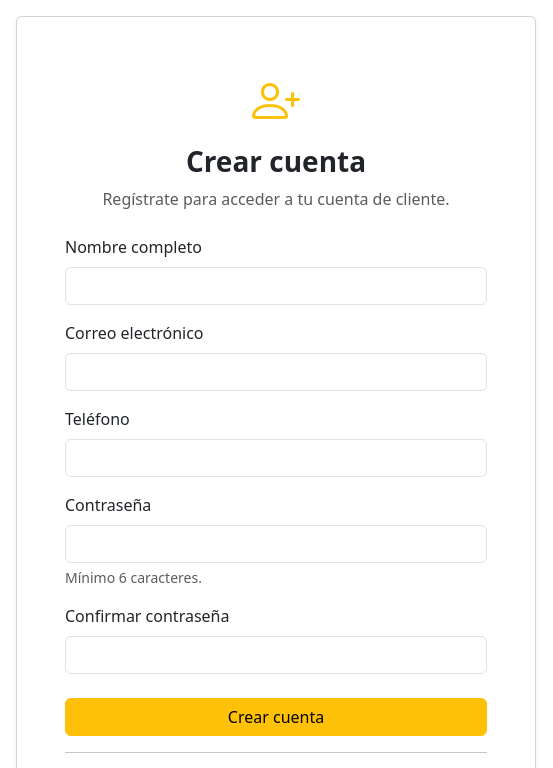
Test: Register › rechaza contraseñas que no coinciden
Type "Cliente de prueba" into the field labelled "Nombre completo". click: (276, 286)
box: x1=65 y1=267 x2=487 y2=305
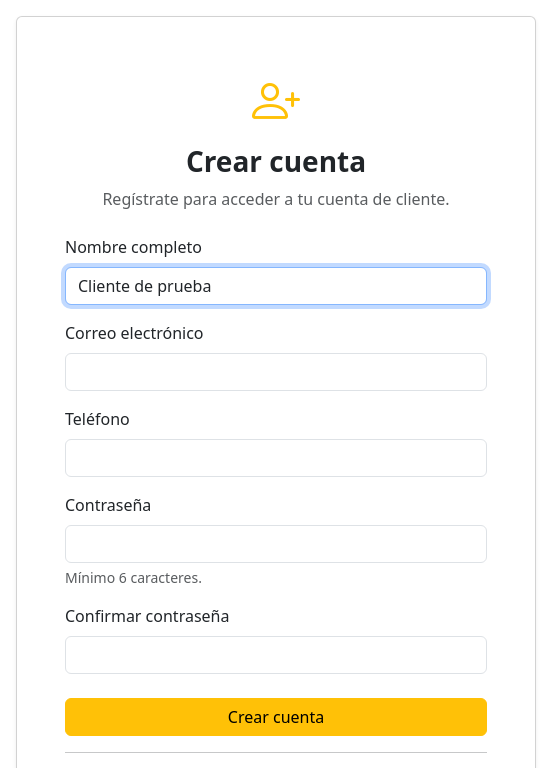
Type "cliente@ejemplo.cl" into the field labelled "Correo electrónico". click: (276, 372)
box: x1=65 y1=353 x2=487 y2=391
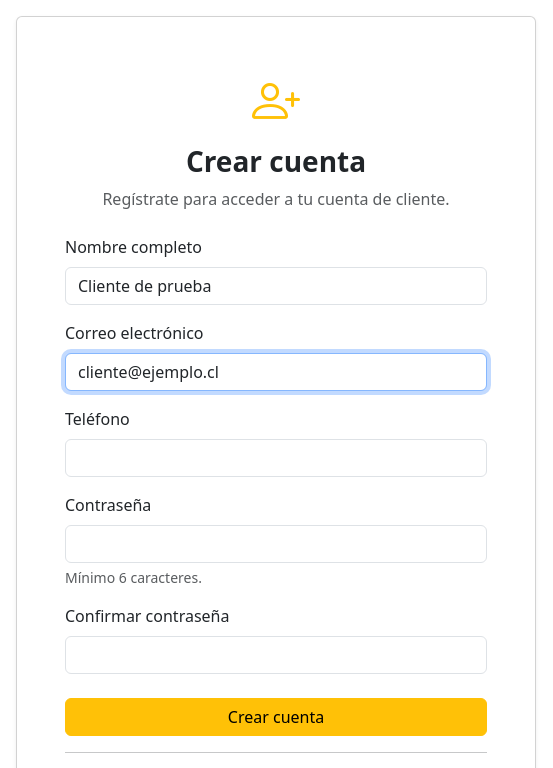
Type "912345678" into the field labelled "Teléfono". click: (276, 458)
box: x1=65 y1=439 x2=487 y2=477
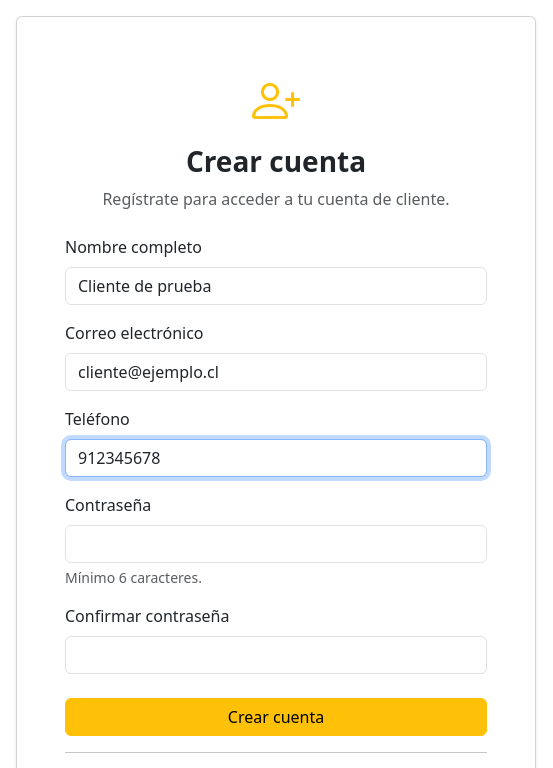
Type "clave123" into the password field labelled "Contraseña". click: (276, 544)
box: x1=65 y1=525 x2=487 y2=563
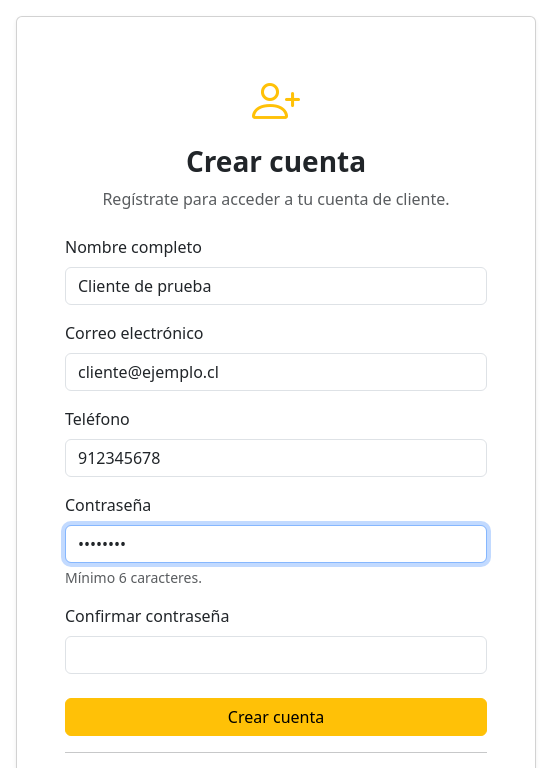
Type "clave456" into the password field labelled "Confirmar contraseña". click: (276, 655)
box: x1=65 y1=636 x2=487 y2=674
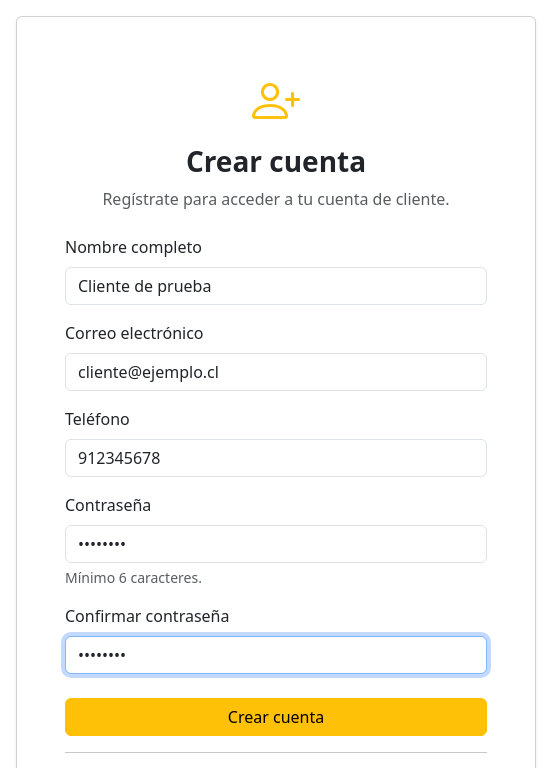
Click the button "Crear cuenta". click: click(276, 717)
box: x1=65 y1=698 x2=487 y2=736
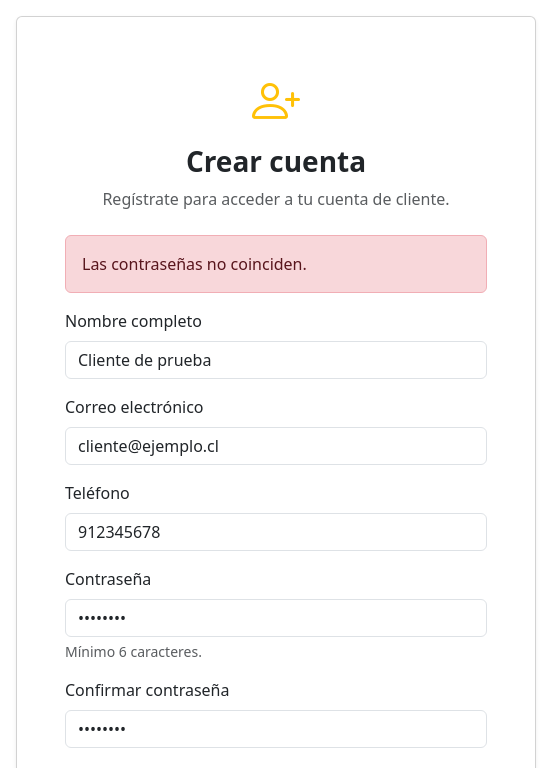
Result: the message reads "Las contraseñas no coinciden." at x1=82 y1=253 x2=307 y2=275
